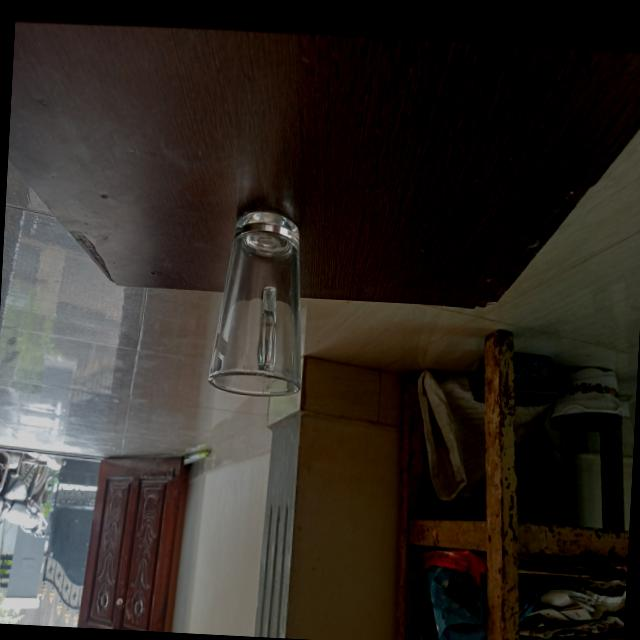glass-VX4N: (209, 202, 312, 416)
